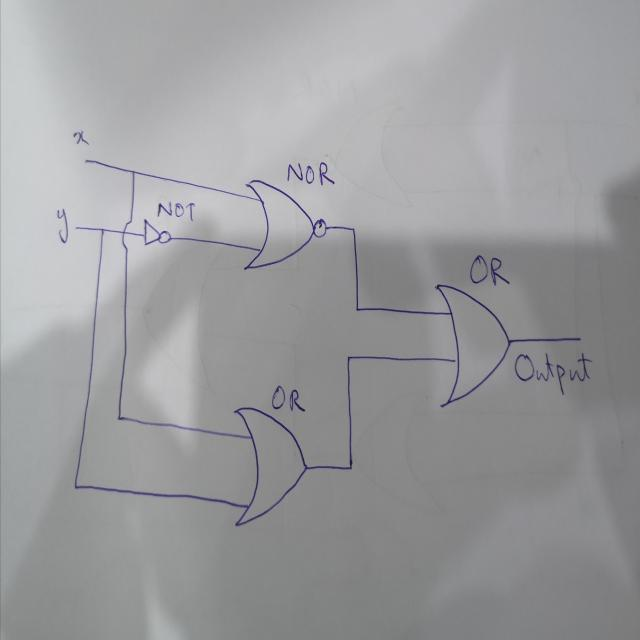crossover: (120, 217, 134, 252)
junction: (344, 456, 357, 476), (346, 220, 358, 238), (96, 223, 107, 237), (128, 164, 138, 178), (72, 479, 80, 492), (115, 411, 123, 424), (354, 303, 361, 314), (345, 351, 351, 363)
terminal: (72, 223, 80, 232), (576, 333, 583, 343), (82, 156, 89, 164)
text: (512, 346, 594, 397), (468, 252, 511, 290), (288, 158, 336, 190), (154, 199, 196, 228), (270, 383, 306, 415), (56, 207, 70, 245), (72, 128, 90, 145)
